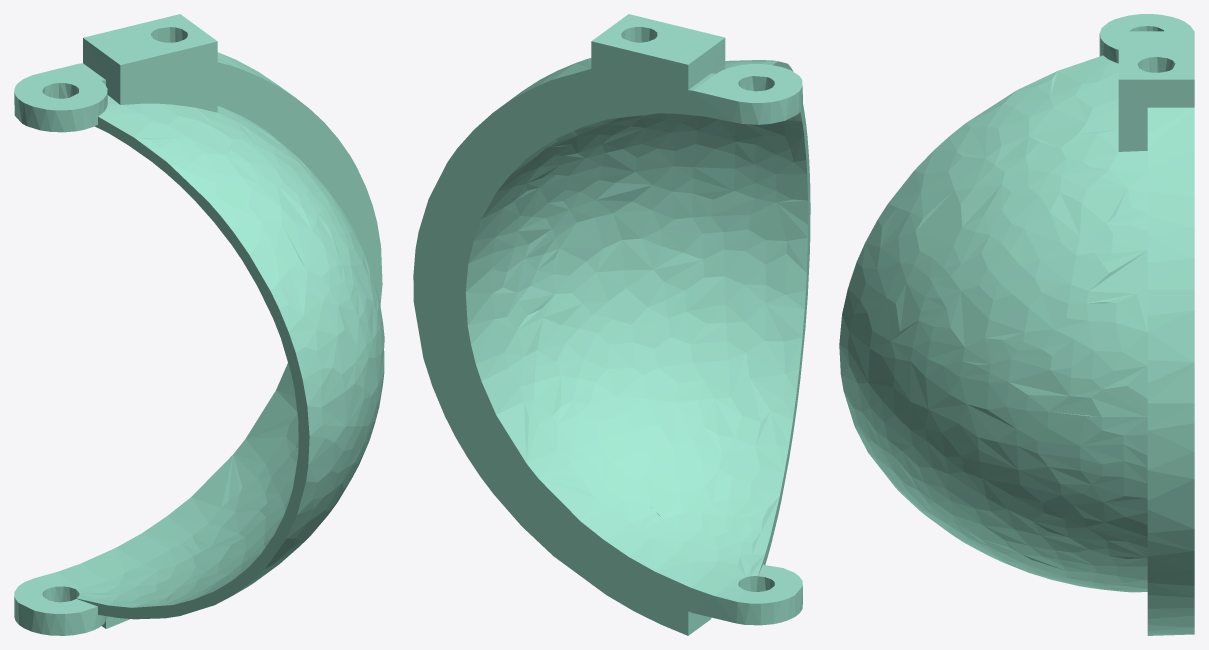
Rendered from i02_head_right_top_eyelid_visual.obj.full.glb.
3 views of the same model, side by side, from view 1: azimuth 30°, elevation 25°; view 2: azimuth 150°, elevation 25°; view 3: azimuth 270°, elevation 25° (orthographic). The views are drawn at different scales.
Size of the model in its own units: 0.2107 by 0.3191 by 0.1761.
